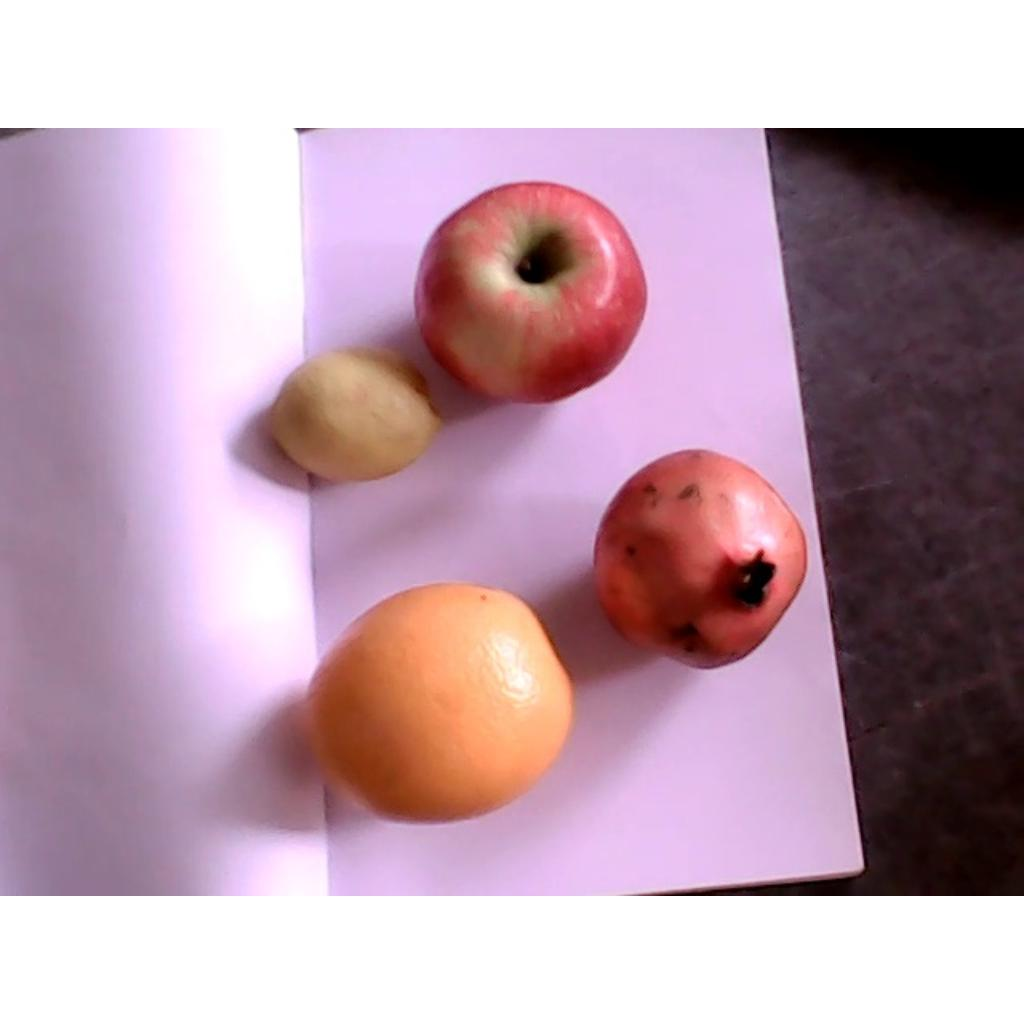apple: (412, 182, 648, 403)
lemon: (261, 345, 444, 483)
orange: (302, 583, 571, 825)
pomegranate: (594, 449, 807, 669)
